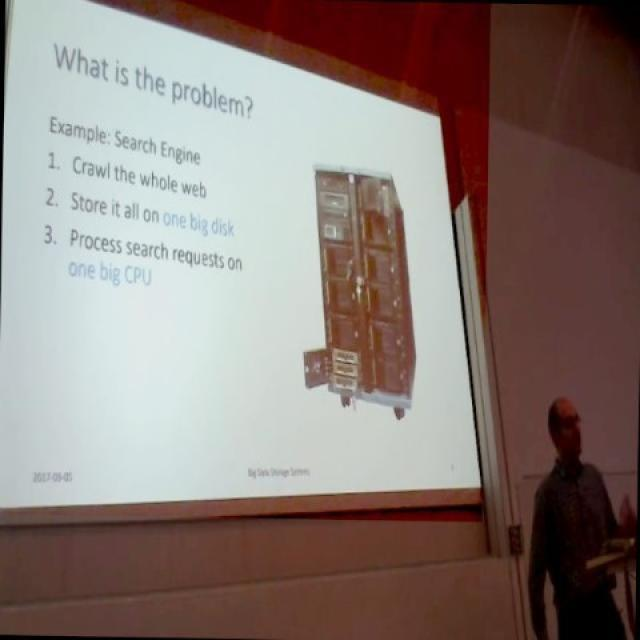Instructor: (534, 384, 630, 623)
Slide: (0, 0, 482, 510)
